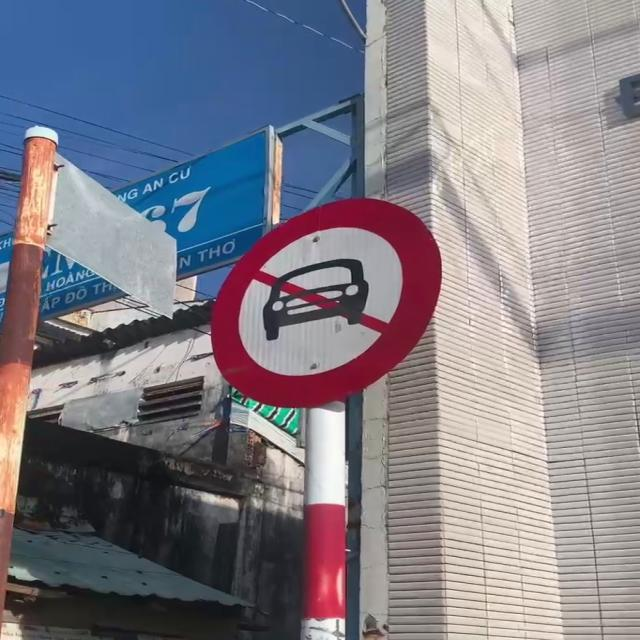Cam_O_To: (198, 200, 450, 412)
